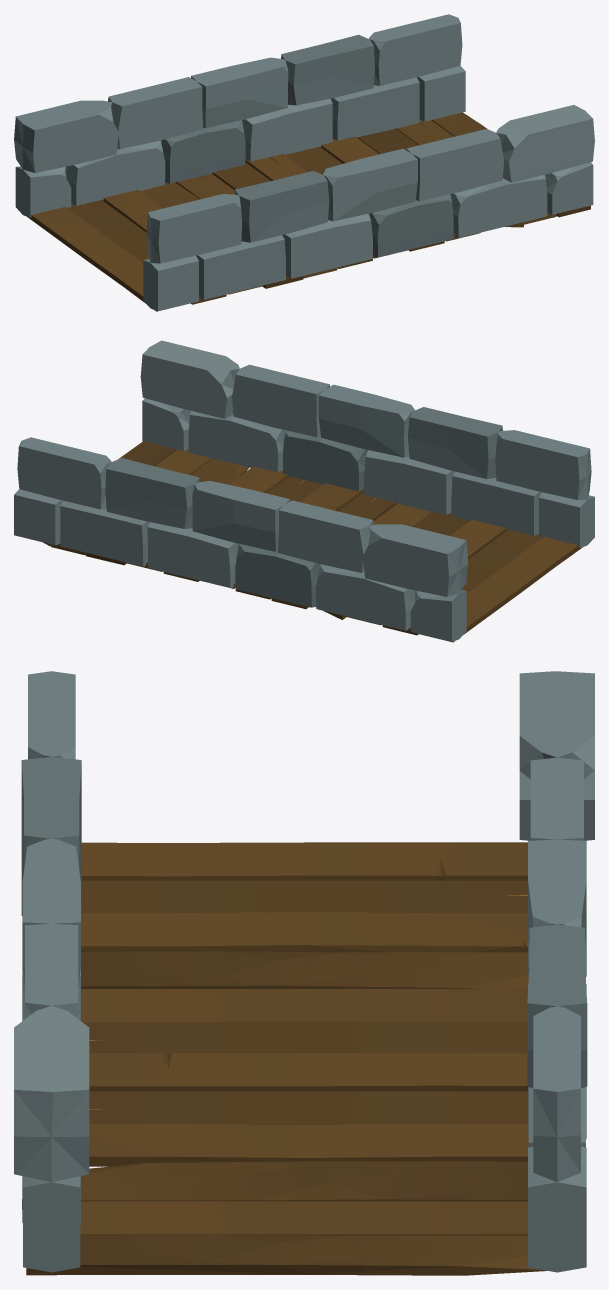
The model's file is Bridge.fbx.
3 views of the same model, one above another, from view 1: azimuth 30°, elevation 25°; view 2: azimuth 150°, elevation 25°; view 3: azimuth 270°, elevation 25° (orthographic). The views are drawn at different scales.
Visible parts, largest first — view 1: Bridge; view 2: Bridge; view 3: Bridge.
Part boxes in pixels (x1=…): Bridge: x1=14, y1=14, x2=594, y2=311; Bridge: x1=14, y1=340, x2=594, y2=642; Bridge: x1=14, y1=671, x2=594, y2=1275.
Size of the model in its own units: 594 by 122 by 346.
